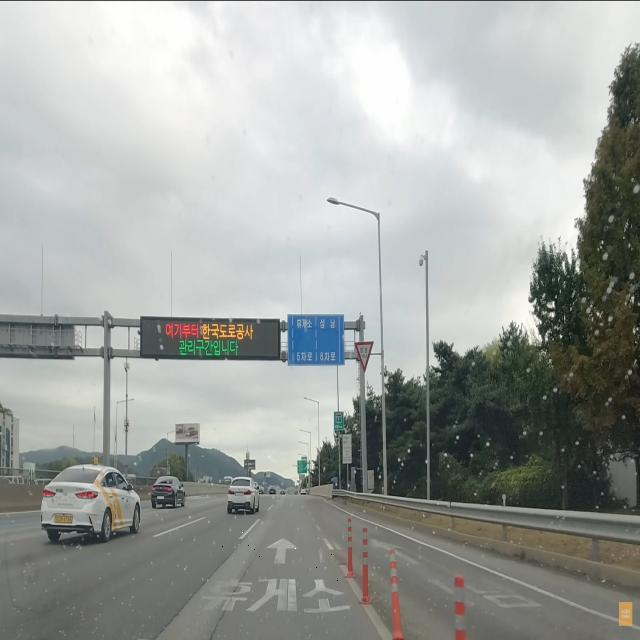forward: (199, 531, 356, 582)
